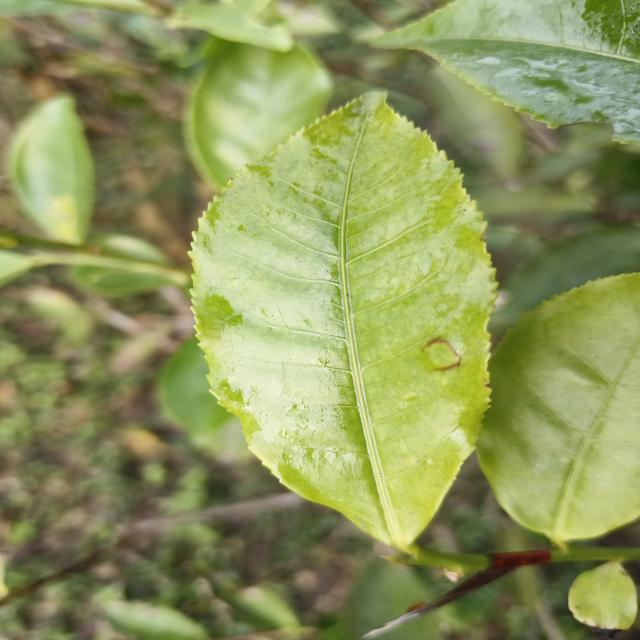Leaf: (191, 93, 494, 551), (478, 274, 640, 545), (373, 0, 640, 143), (184, 38, 332, 189), (9, 96, 94, 245), (568, 561, 637, 638)
